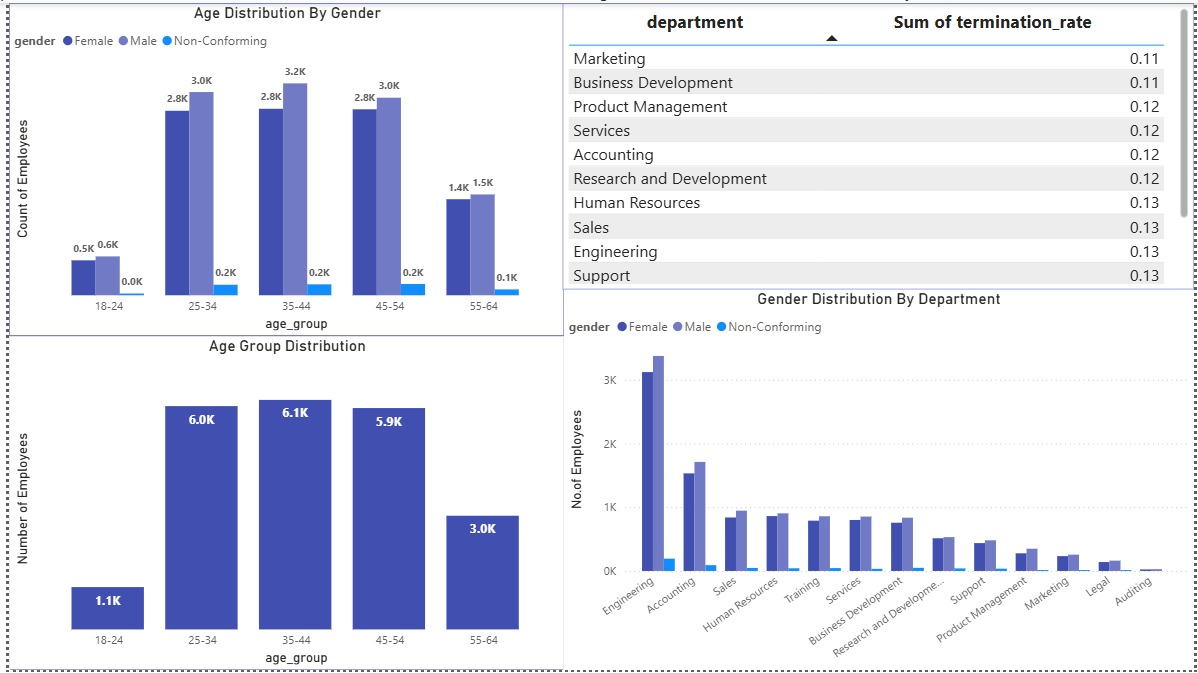

This screenshot's page, from the dashboard's own definition file:
{"tool":"powerbi","page":{"name":"Page 2","canvas":[1280,720],"ordinal":1},"visuals":[{"type":"columnChart","title":"Age Group Distribution","fields":{"Category":["3 age_group.age_group"],"Y":["Sum(3 age_group.count)"]},"box":[0,359.5,599.6,360.7],"z":0},{"type":"clusteredColumnChart","title":"Age Distribution By Gender","fields":{"Y":["Sum(4 age_group_gender.count)"],"Category":["4 age_group_gender.age_group"],"Series":["4 age_group_gender.gender"]},"box":[0,0,599.6,359.5],"z":1000},{"type":"tableEx","fields":{"Values":["9 termination_rate.department","Sum(9 termination_rate.termination_rate)"]},"box":[597.5,0,681.7,309.3],"z":2000},{"type":"clusteredColumnChart","title":"Gender Distribution By Department","fields":{"Category":["7 gender_dept.department"],"Y":["Sum(7 gender_dept.count)"],"Series":["7 gender_dept.gender"]},"box":[599.6,309.7,680.4,410.5],"z":3000}]}

Visuals, with their boxes in screenshot pixels (x1, y1, x2, y2), scaled from the page's 1280x720 canvas onto the 1198x673 screenshot:
"Age Group Distribution" columnChart: pyautogui.locateOnScreen(0, 336, 561, 672)
"Age Distribution By Gender" clusteredColumnChart: pyautogui.locateOnScreen(0, 0, 561, 336)
tableEx - 9 termination_rate.department x Sum(9 termination_rate.termination_rate): pyautogui.locateOnScreen(559, 0, 1197, 289)
"Gender Distribution By Department" clusteredColumnChart: pyautogui.locateOnScreen(561, 289, 1197, 672)
